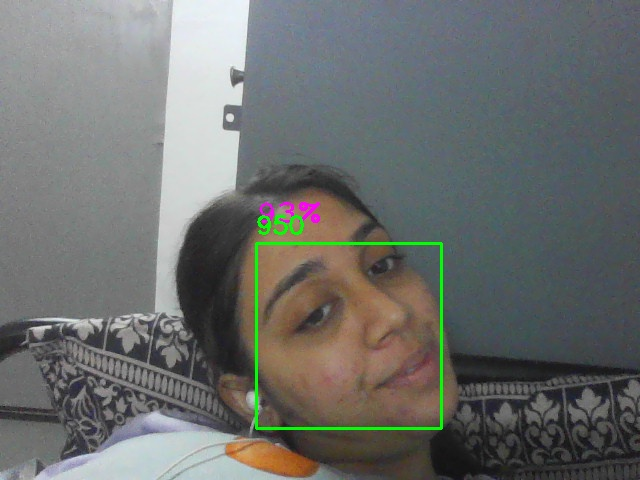real: (256, 243, 442, 429)
